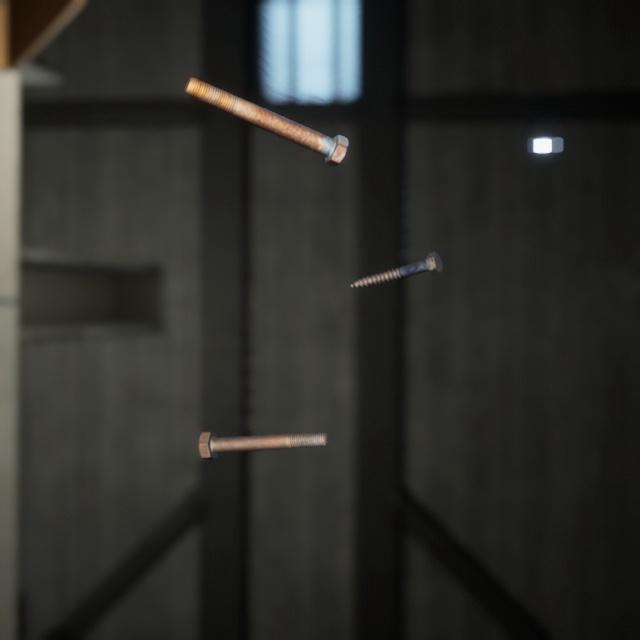bolt: (179, 60, 352, 157), (194, 406, 333, 442), (345, 231, 447, 276)
